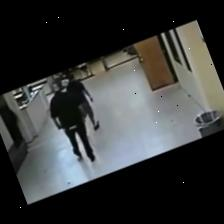person: (50, 83, 95, 161), (67, 74, 100, 131)
